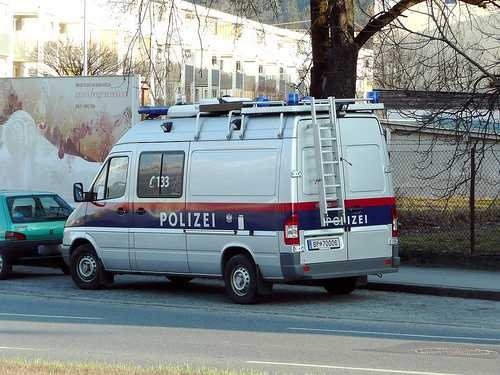Police Van: (68, 83, 425, 288)
